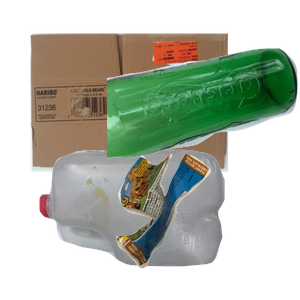cardboard: (28, 31, 249, 195)
glass: (107, 46, 300, 197)
plastic: (37, 147, 254, 300)
trash: (114, 151, 300, 300)
